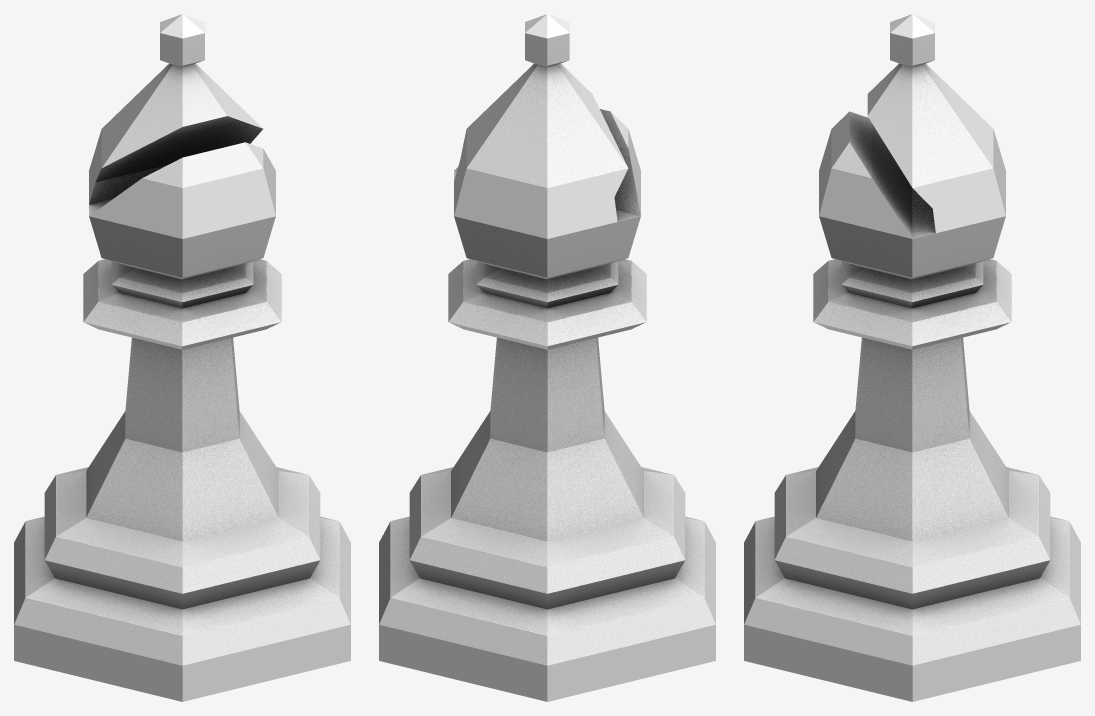
Rendered from bishop.fbx.
3 renders of one model, left to right at view 1: azimuth 30°, elevation 25°; view 2: azimuth 150°, elevation 25°; view 3: azimuth 270°, elevation 25°, orthographic.
Parts seen in each view (by area): view 1: Bishop; view 2: Bishop; view 3: Bishop.
Boxes of the visible parts, x1,y1,x2,y2 form: Bishop: [14, 14, 350, 701]; Bishop: [379, 14, 715, 701]; Bishop: [744, 14, 1080, 701].
Bounding box in the file's own units: 87.63 × 151 × 75.89.
